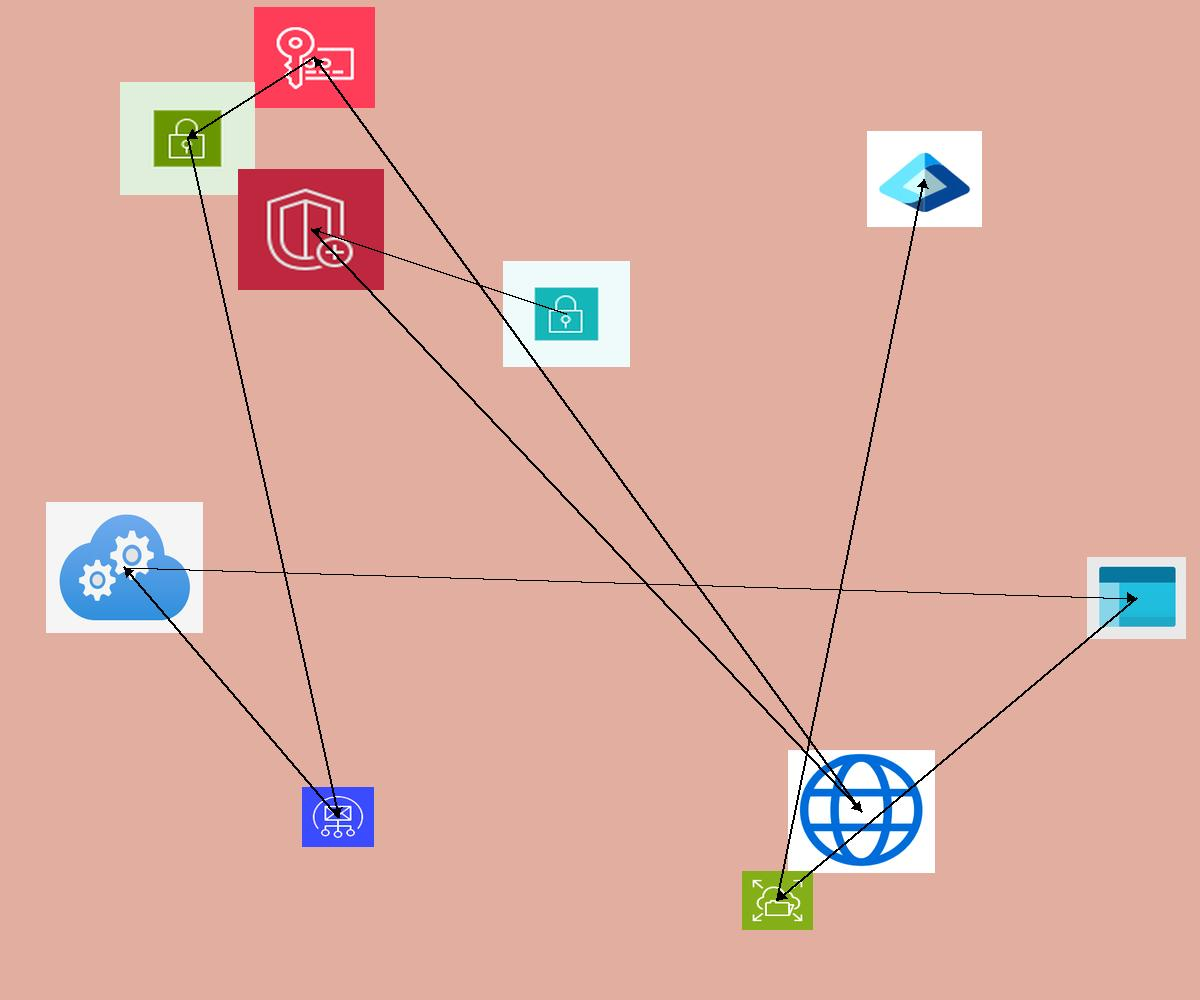AWS-EFS: (742, 871, 813, 930)
AWS-Key-Management-Service: (254, 7, 375, 108)
AWS-Private-subnet: (503, 261, 630, 367)
AWS-Public-subnet: (120, 82, 255, 195)
AWS-Shield: (238, 169, 384, 290)
AWS-Simple-Email-Service: (302, 787, 374, 847)
Azure_cloud_services: (46, 502, 203, 633)
Azure_http: (788, 750, 935, 873)
Azure_management-portal: (1087, 557, 1186, 639)
Azure_microsoft_entra: (867, 131, 982, 227)
